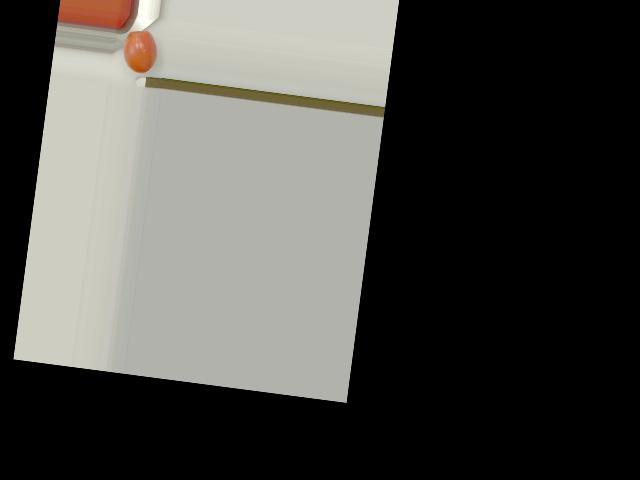tomato: (120, 28, 160, 74)
